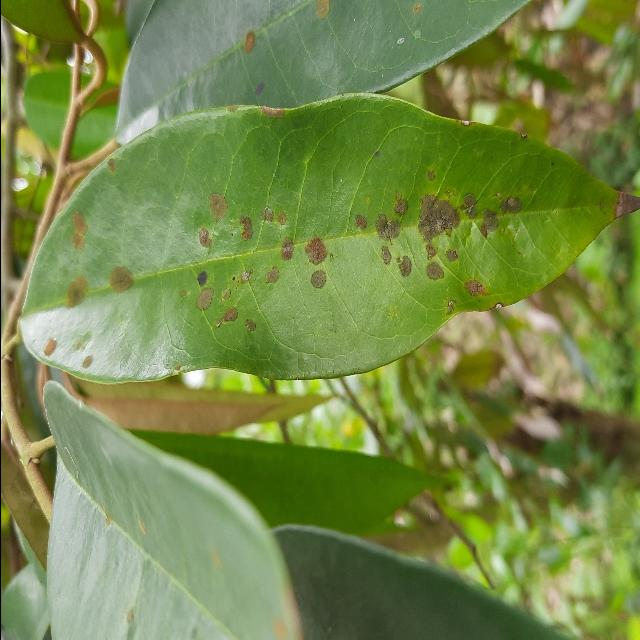Algal Leaf Spot: (3, 91, 640, 390)
